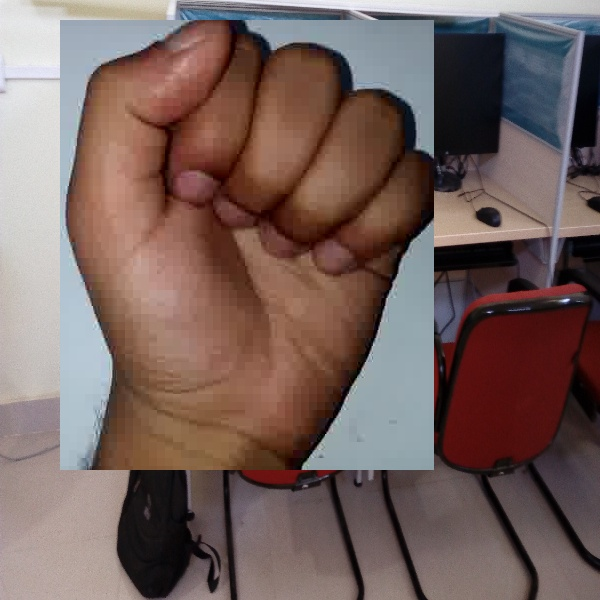A: (60, 20, 434, 470)
